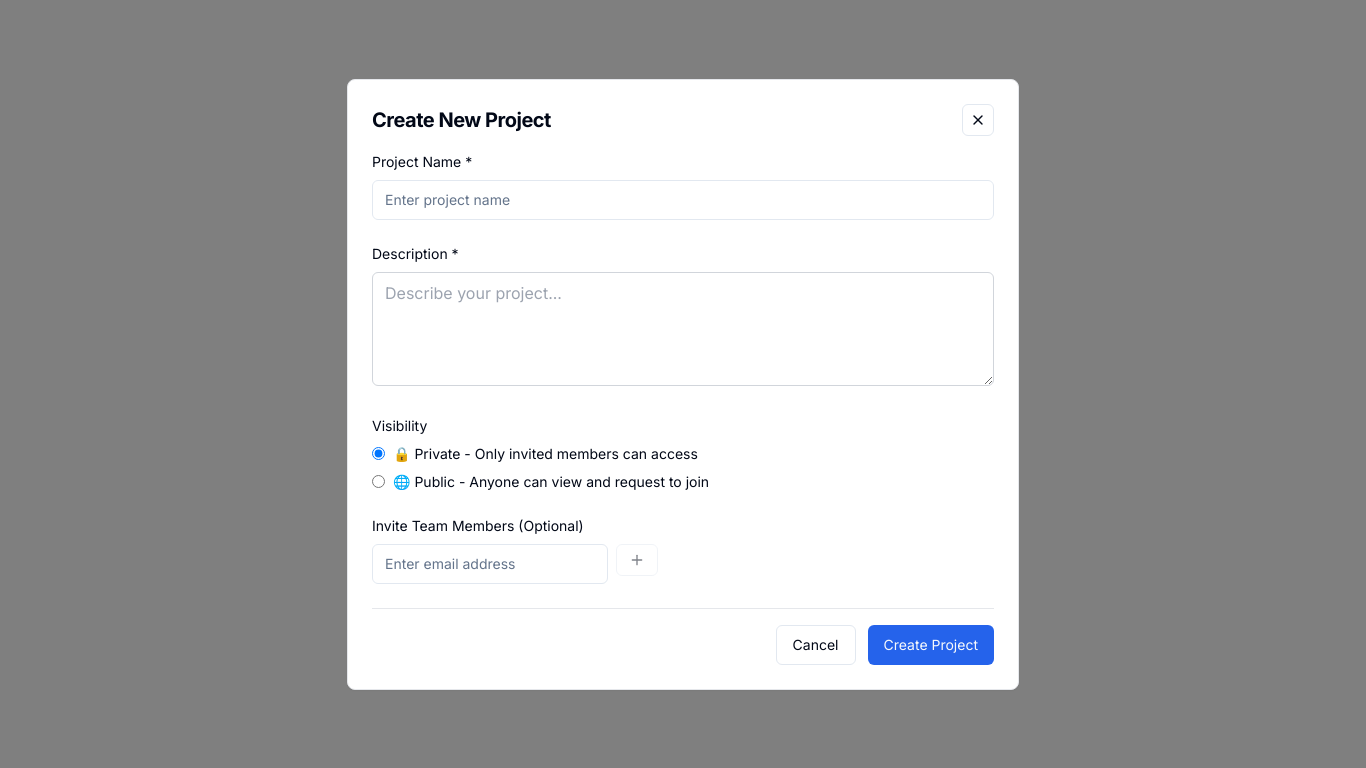
Test: CreateProjectModal › should show validation errors for empty required fields
This screenshot has width=1366, height=768.
Click the button "Create Project".
click(931, 644)  # box top-left (868, 624), bottom-right (994, 664)
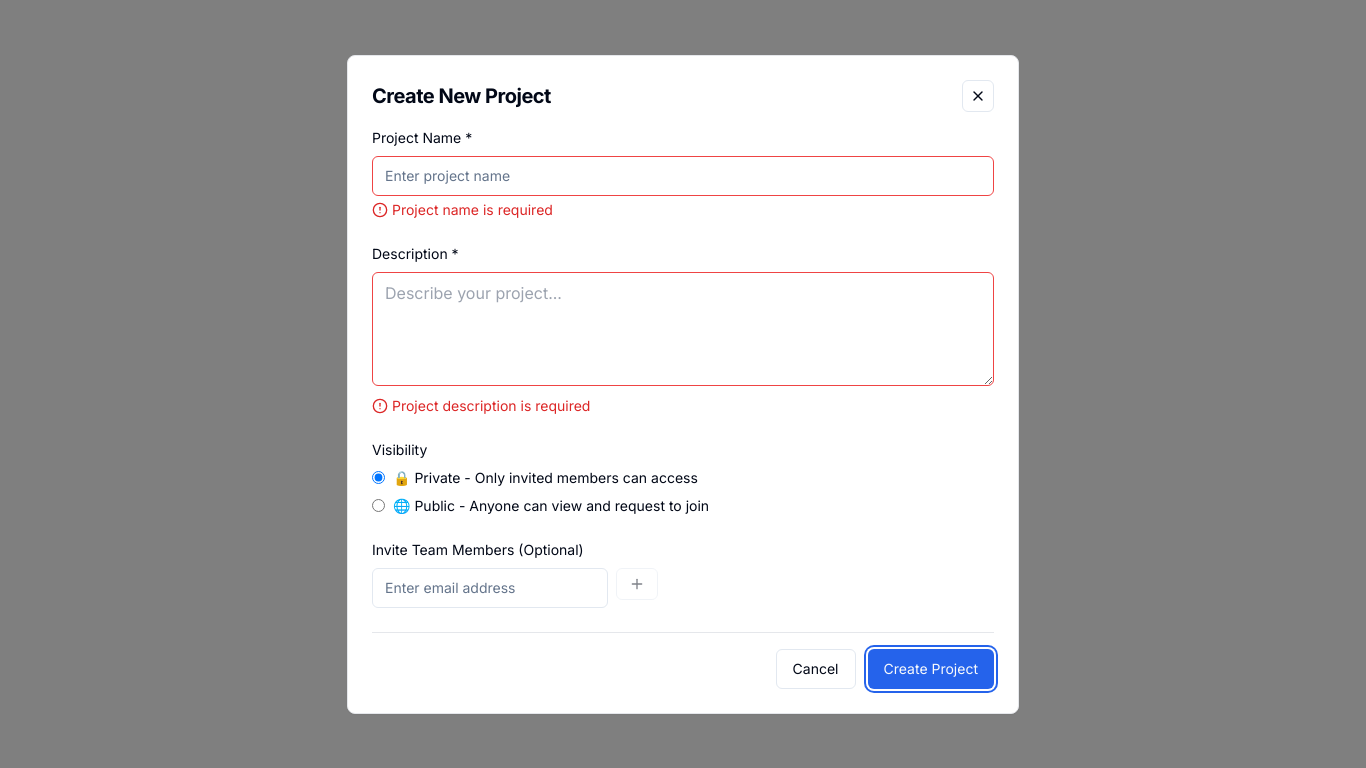
expect the text "Project name is required" is shown: met, box top-left (392, 200), bottom-right (553, 220)
expect the text "Project description is required" is shown: met, box top-left (392, 396), bottom-right (590, 416)
